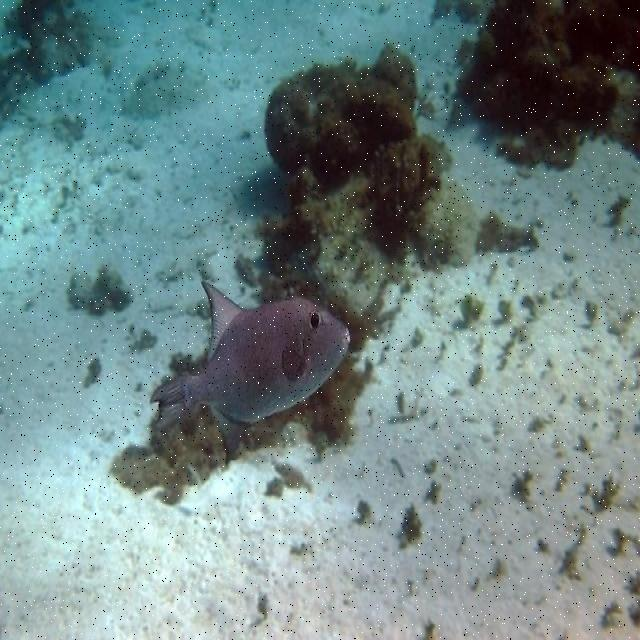aquatic plants: (447, 0, 639, 169), (264, 43, 453, 211)
fish: (152, 282, 351, 467)
